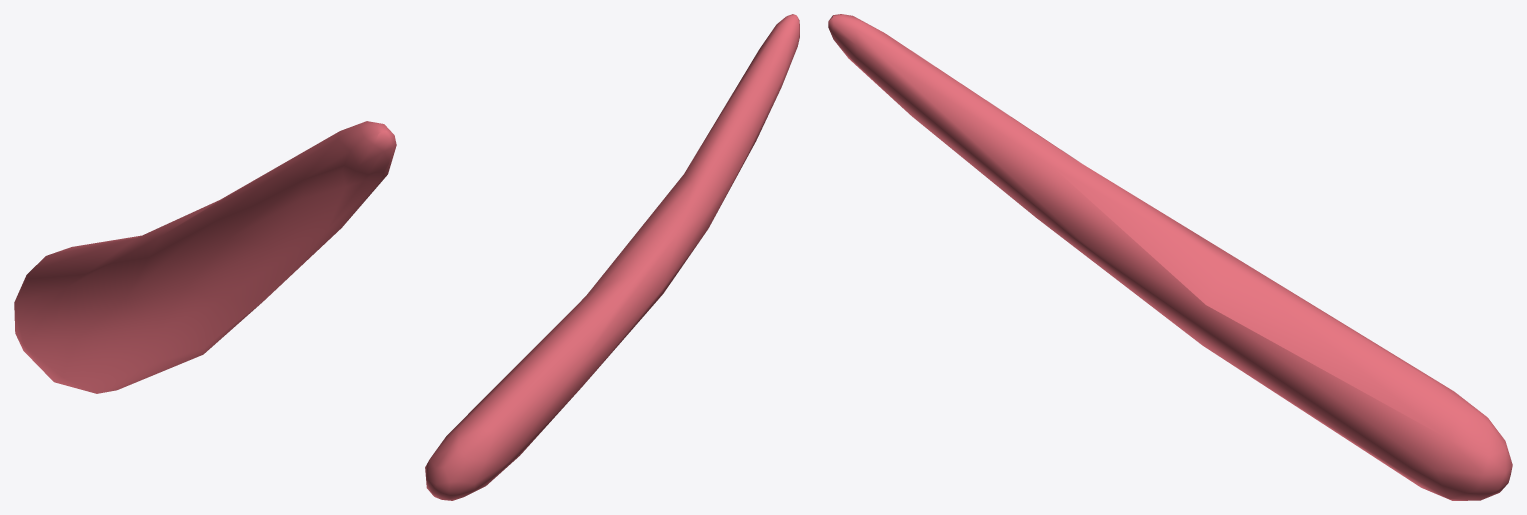
File: fma9437_fj2961.glb
3 views of the same model, side by side, from view 1: azimuth 30°, elevation 25°; view 2: azimuth 150°, elevation 25°; view 3: azimuth 270°, elevation 25° (orthographic). The views are drawn at different scales.
Visible parts, largest first — view 1: FMA9437_FJ2961; view 2: FMA9437_FJ2961; view 3: FMA9437_FJ2961.
Boxes of the visible parts, x1,y1,x2,y2 form: FMA9437_FJ2961: (14,121,396,393); FMA9437_FJ2961: (425,14,799,500); FMA9437_FJ2961: (828,14,1512,500).
Size of the model in its own units: 0.00802 by 0.0189 by 0.0278.
